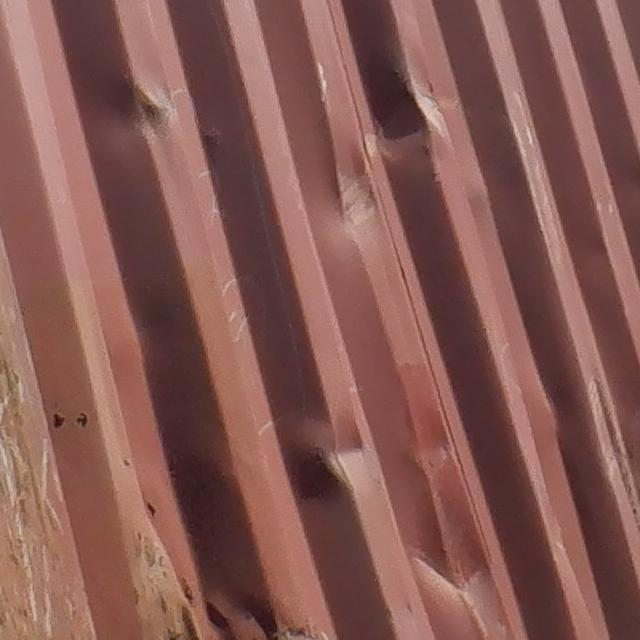dent: (314, 366, 527, 620), (281, 56, 502, 237), (113, 80, 208, 149)
